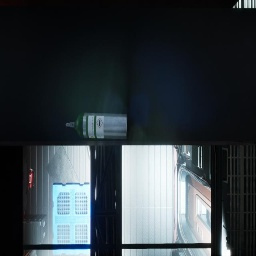0: (65, 112, 127, 139)
FireExtinguisher ]: (28, 167, 35, 191)
SafetySwitchPanel ,: (181, 145, 192, 160)
